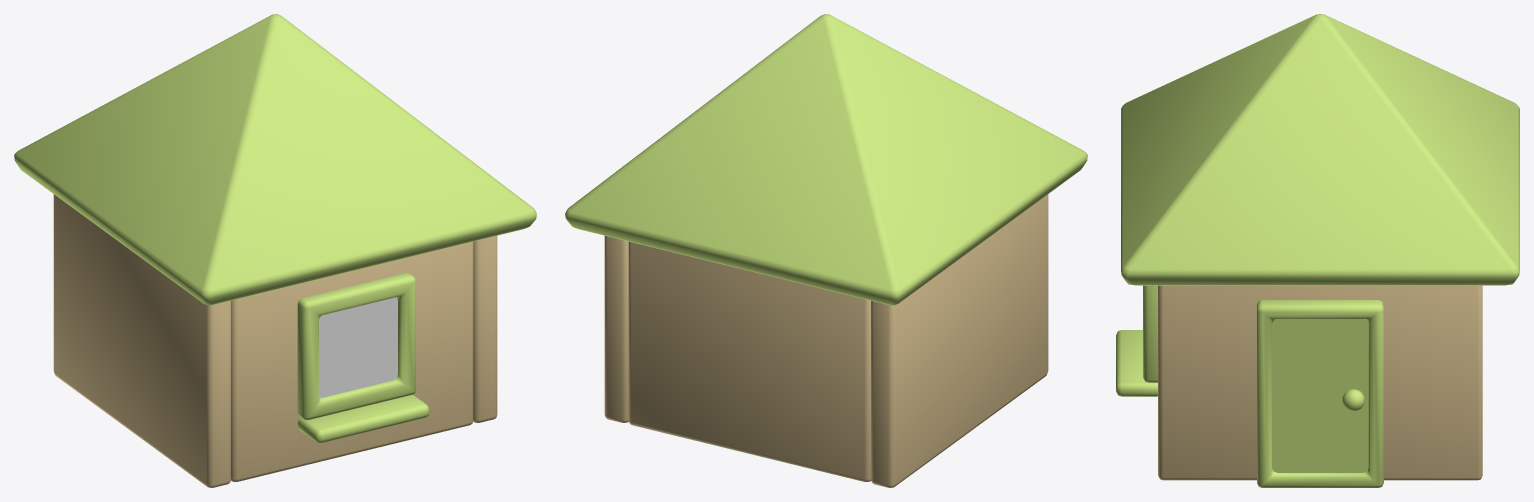
File: house 2.fbx
3 renders of one model, left to right at view 1: azimuth 30°, elevation 25°; view 2: azimuth 150°, elevation 25°; view 3: azimuth 270°, elevation 25°, orthographic. The views are drawn at different scales.
Visible parts, largest first — view 1: Plane.002, Plane.005, Plane.001, Plane.007, Plane.003; view 2: Plane.002, Plane.004, Plane.005, Plane.003; view 3: Plane.002, Plane.003, Plane.006, Plane.007.
Part boxes in pixels (bbox=[...]): Plane.002: bbox=[14, 14, 536, 305]; Plane.005: bbox=[53, 194, 230, 487]; Plane.001: bbox=[231, 241, 473, 481]; Plane.007: bbox=[297, 272, 429, 442]; Plane.003: bbox=[473, 236, 497, 422]; Plane.002: bbox=[565, 14, 1087, 305]; Plane.004: bbox=[628, 241, 870, 481]; Plane.005: bbox=[871, 194, 1048, 487]; Plane.003: bbox=[604, 236, 628, 422]; Plane.002: bbox=[1121, 14, 1519, 285]; Plane.003: bbox=[1158, 285, 1482, 480]; Plane.006: bbox=[1257, 300, 1383, 487]; Plane.007: bbox=[1116, 285, 1157, 396].
Size of the model in its own units: 286 by 313 by 290.
